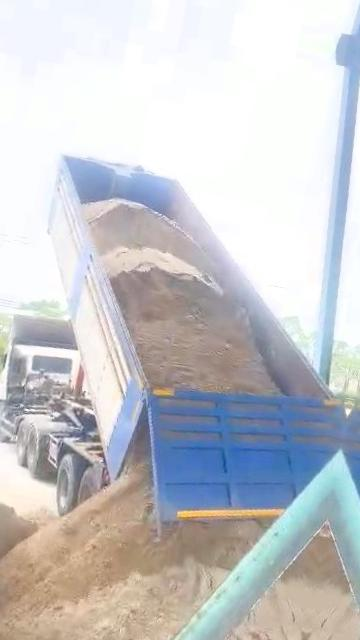sand: (0, 465, 263, 640), (84, 200, 278, 393), (182, 537, 325, 640), (0, 475, 36, 618), (24, 507, 54, 527)
